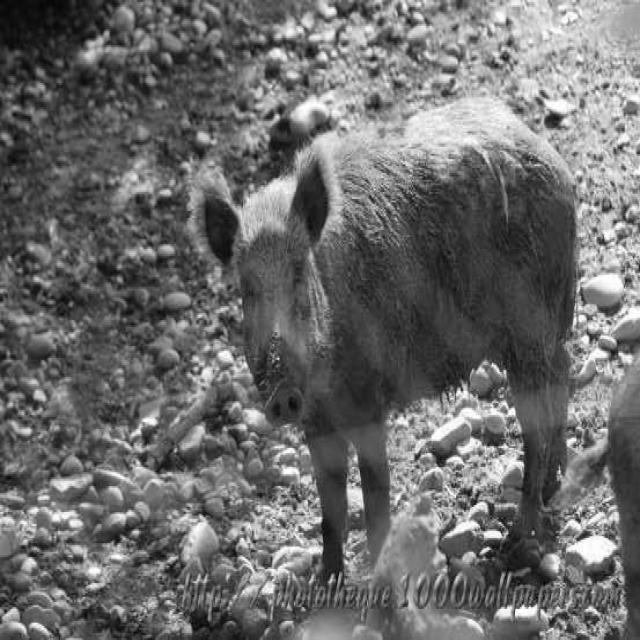boar: (190, 97, 573, 571)
